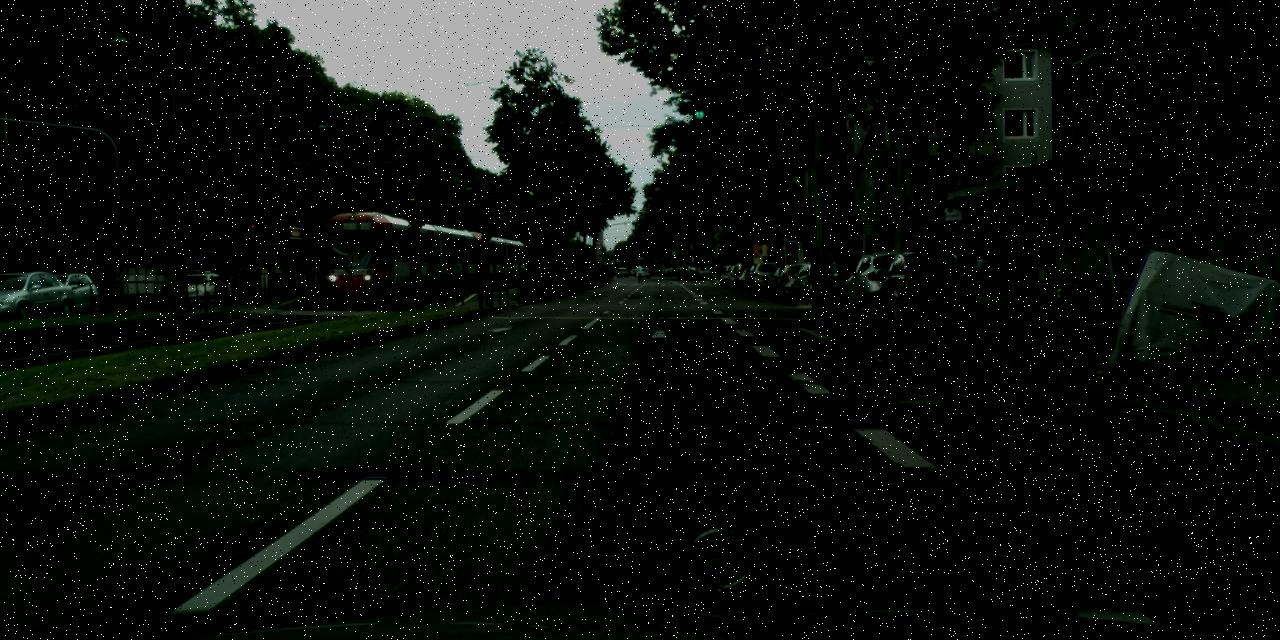ped: (803, 248, 826, 306), (806, 250, 829, 306), (635, 262, 643, 280)
